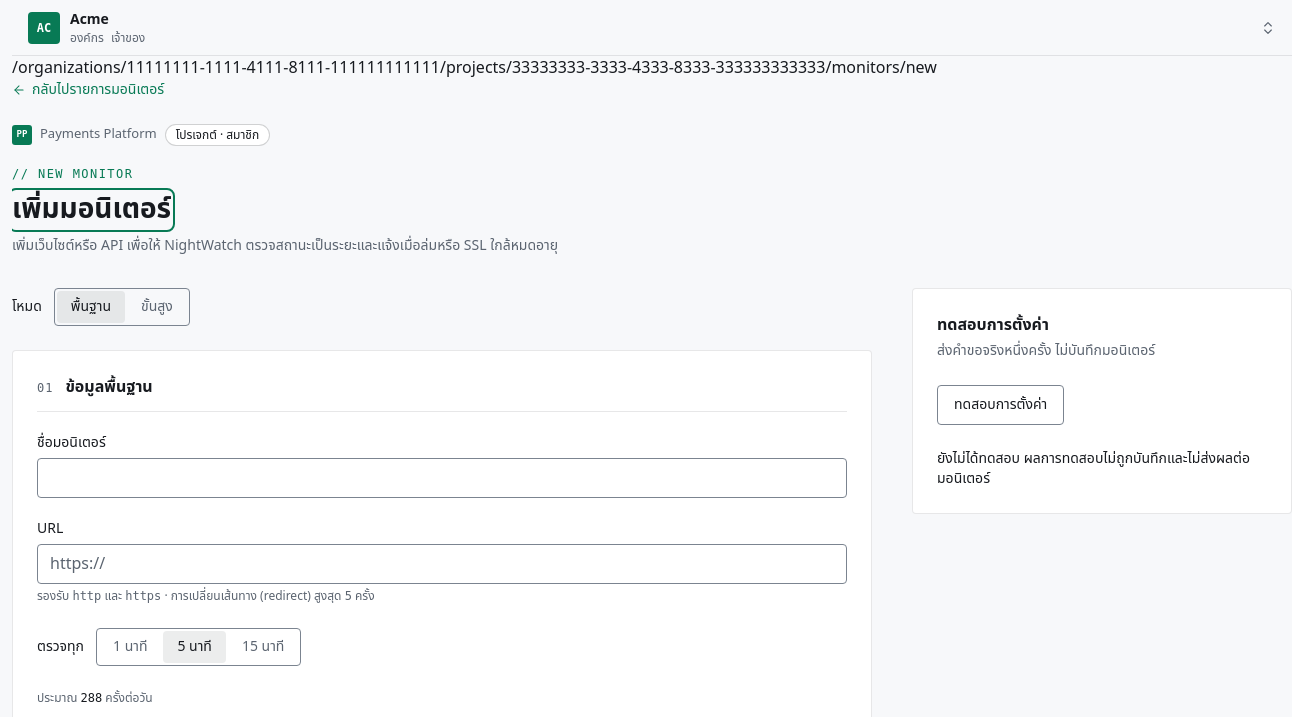
Test case: Advanced mode defaults and mode switch › offers method, timeout and expected status with the defaults
Expected: the field with test id "monitor-form-name" is shown, [37, 458, 847, 498]
Click the radio button with test id "monitor-form-mode-advanced" at (157, 307), box [127, 291, 187, 323]
(page scrolled)
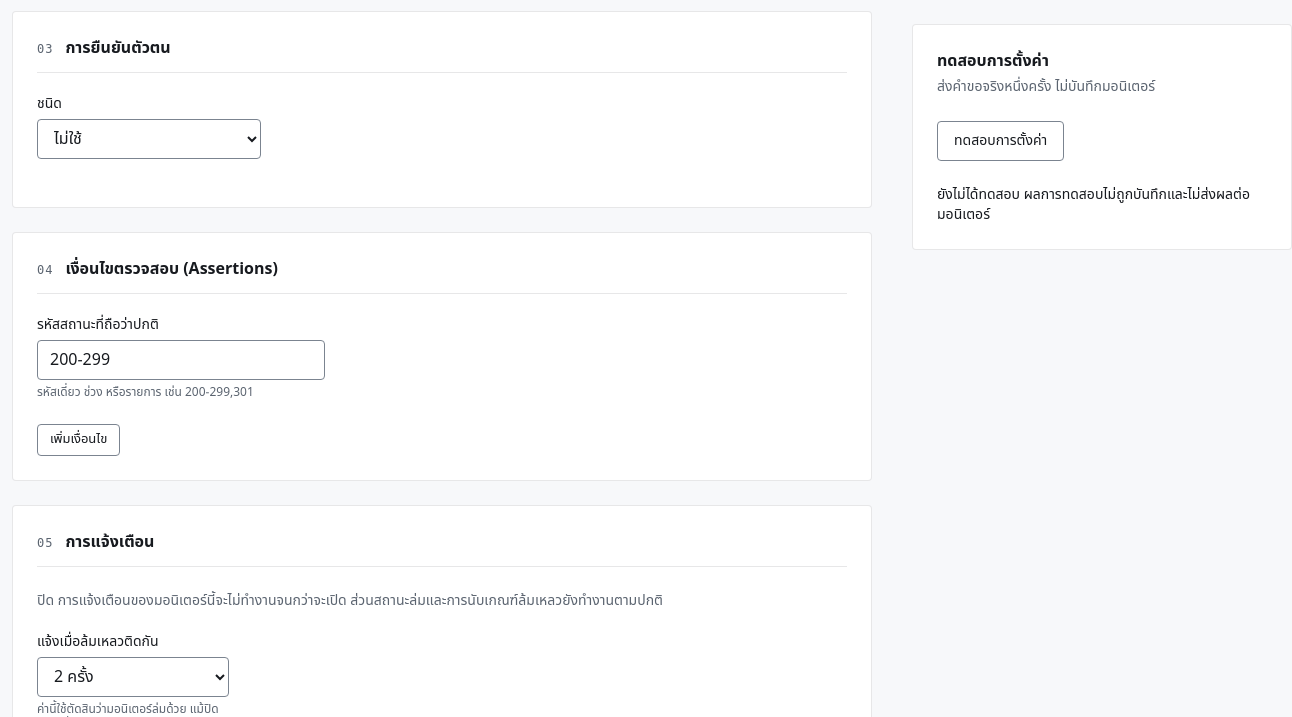
Now the field with test id "monitor-form-expected-status" holds "200-299", box [37, 340, 325, 380]
